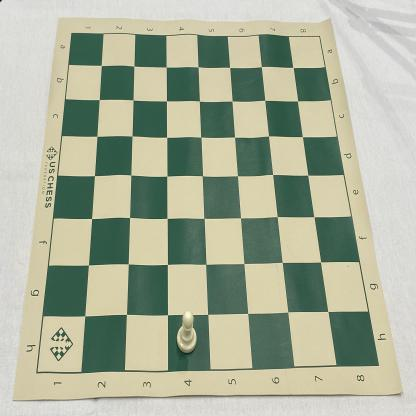white-pawn: (177, 309, 198, 355)
